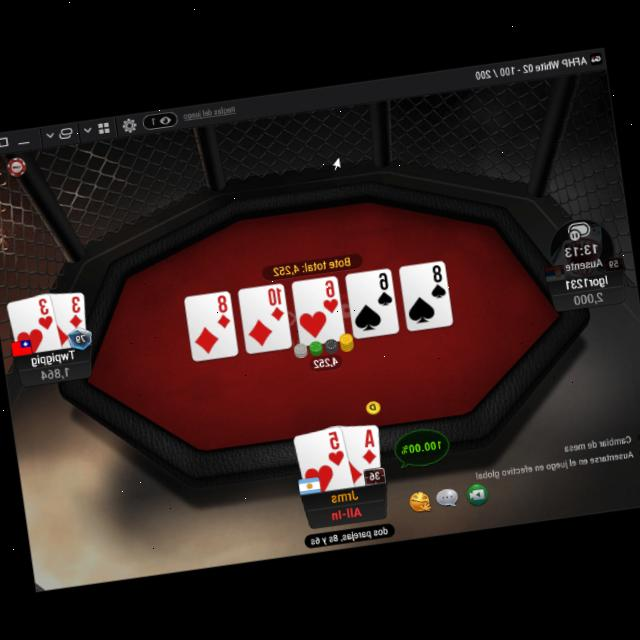3d: (63, 292, 86, 330)
3h: (32, 294, 56, 332)
4d: (63, 292, 86, 330)
5h: (324, 428, 346, 468)
6h: (319, 278, 341, 316)
6s: (372, 269, 394, 309)
8d: (63, 292, 86, 330), (212, 292, 234, 331)
8s: (426, 262, 448, 300)
Ad: (355, 426, 379, 467)
Td: (265, 284, 288, 324)
all_in_symbol: (330, 502, 364, 524)
bet_text: (312, 354, 340, 370)
dealer: (364, 397, 383, 416)
pot_text: (272, 255, 352, 278)
stack_text: (572, 289, 606, 308), (38, 365, 72, 382)
